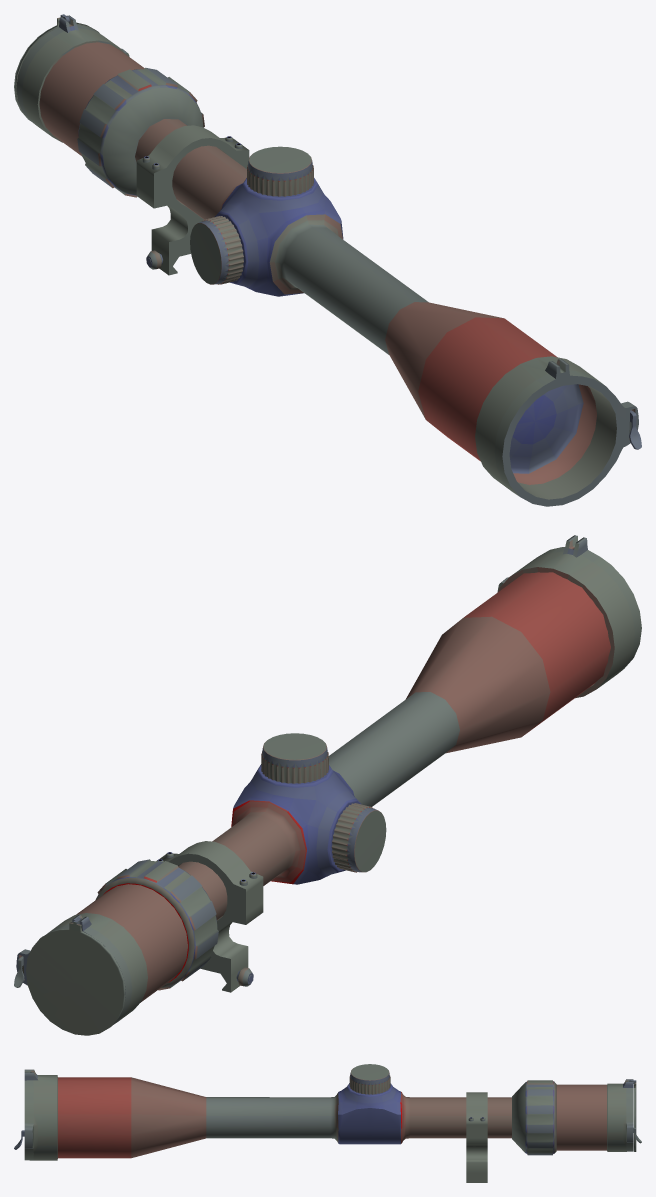
The model's file is SniperScope_LowPoly.fbx.
The picture shows the model from 3 angles, top to bottom: view 1: azimuth 30°, elevation 25°; view 2: azimuth 150°, elevation 25°; view 3: azimuth 270°, elevation 25°; orthographic projection. The views are drawn at different scales.
Parts seen in each view (by area): view 1: SniperScope_Boby, SniperScope_Brace, SniperScope_AdjustSide, SniperScope_AdjustTop; view 2: SniperScope_Boby, SniperScope_CoverBack, SniperScope_Brace, SniperScope_AdjustSide, SniperScope_AdjustTop; view 3: SniperScope_Boby, SniperScope_Brace, SniperScope_AdjustTop, SniperScope_CoverBack.
Boxes of the visible parts, x1=… form: SniperScope_Boby: x1=16, y1=15, x2=641, y2=506; SniperScope_Brace: x1=136, y1=125, x2=249, y2=275; SniperScope_AdjustSide: x1=190, y1=216, x2=243, y2=284; SniperScope_AdjustTop: x1=247, y1=146, x2=313, y2=196; SniperScope_Boby: x1=14, y1=535, x2=641, y2=1025; SniperScope_CoverBack: x1=26, y1=917, x2=125, y2=1035; SniperScope_Brace: x1=156, y1=841, x2=263, y2=992; SniperScope_AdjustSide: x1=331, y1=803, x2=386, y2=872; SniperScope_AdjustTop: x1=261, y1=733, x2=328, y2=783; SniperScope_Boby: x1=14, y1=1069, x2=641, y2=1160; SniperScope_Brace: x1=466, y1=1092, x2=487, y2=1182; SniperScope_AdjustTop: x1=349, y1=1064, x2=390, y2=1094; SniperScope_CoverBack: x1=629, y1=1080, x2=636, y2=1151.
Bounding box in the file's own units: 46.51 × 49.06 × 274.
